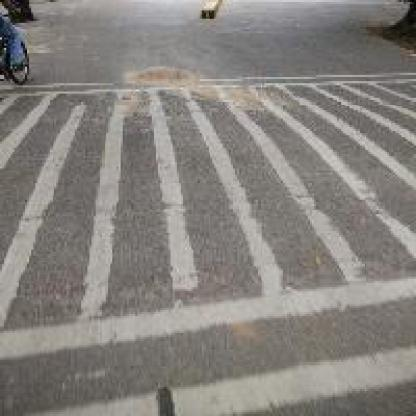Speed Bump: (0, 81, 414, 414)
